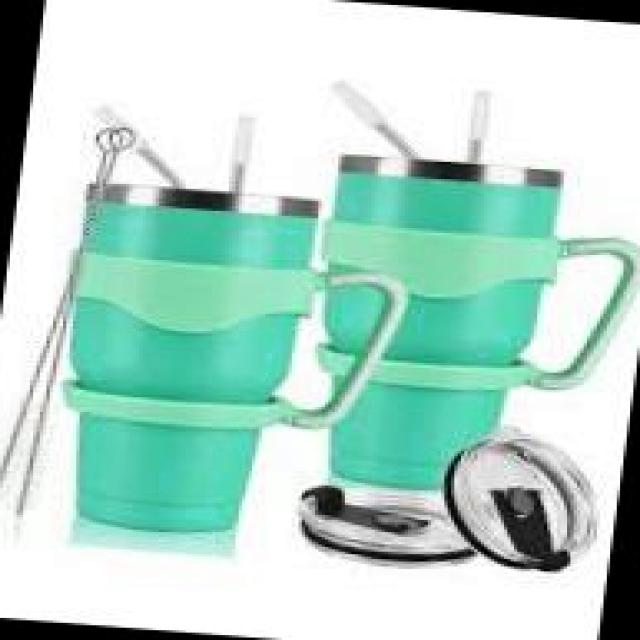bottle: (302, 83, 640, 500), (28, 104, 337, 538)
